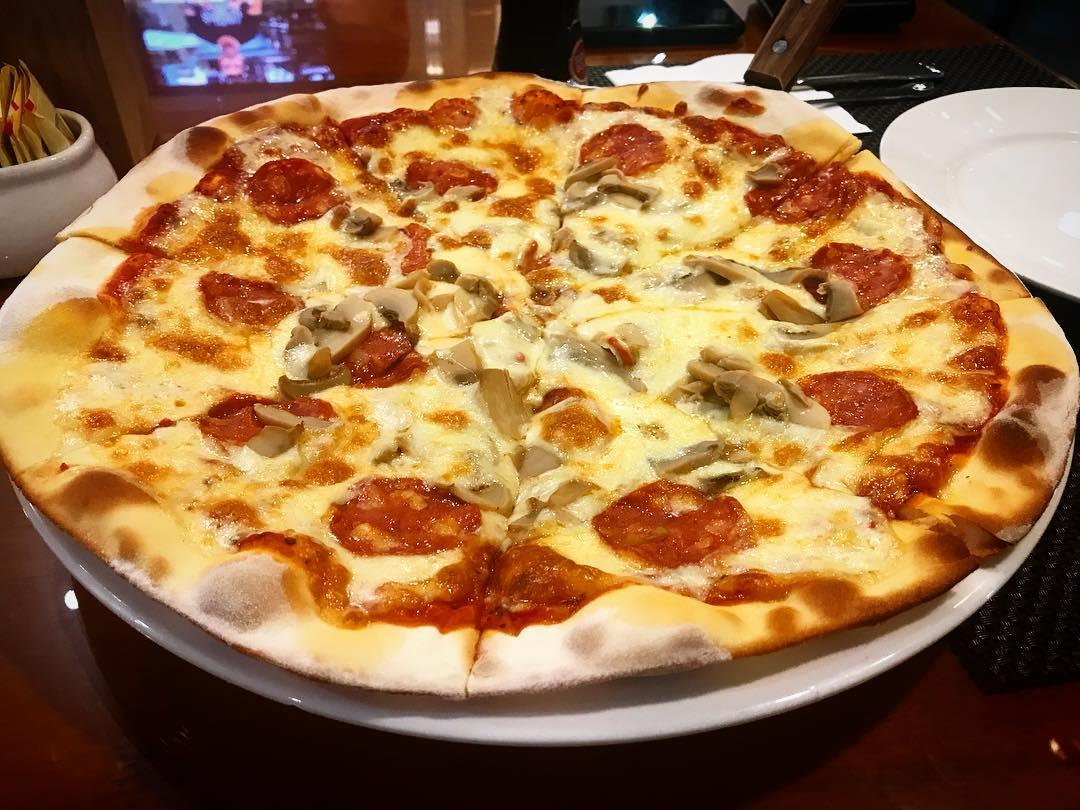Mushroom: (675, 342, 836, 437), (684, 246, 860, 329), (283, 286, 416, 363), (548, 314, 653, 397), (640, 429, 776, 492), (554, 158, 666, 222), (475, 366, 536, 444), (244, 399, 305, 462), (444, 273, 502, 333), (394, 176, 485, 206), (455, 481, 526, 516), (549, 229, 601, 272), (521, 438, 569, 484), (336, 199, 386, 242), (432, 347, 487, 380), (743, 155, 791, 188)
Pepperoni: (589, 481, 759, 569), (320, 473, 481, 557), (194, 384, 339, 450), (794, 363, 924, 435), (739, 158, 864, 228), (805, 237, 920, 313), (242, 155, 345, 229), (198, 265, 307, 331), (574, 122, 666, 176), (404, 155, 503, 197)
Pizza: (0, 67, 1080, 705)
